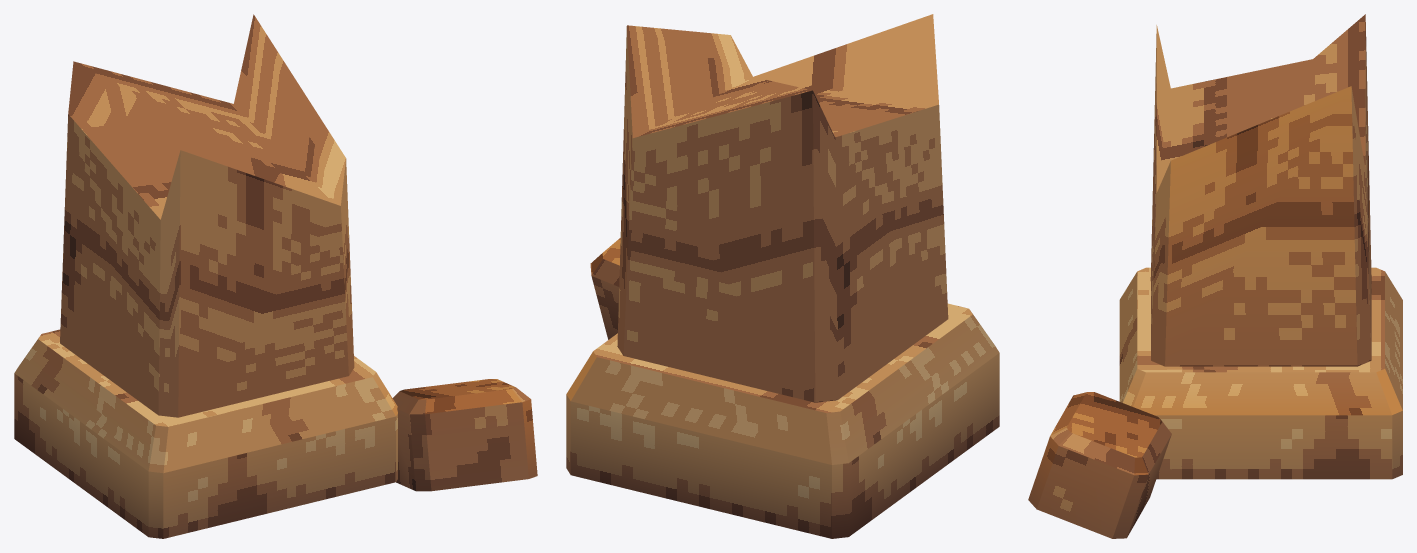
File: ruin.pier__broken.glb
The picture shows the model from 3 angles, left to right: view 1: azimuth 30°, elevation 25°; view 2: azimuth 150°, elevation 25°; view 3: azimuth 270°, elevation 25°; orthographic projection. The views are drawn at different scales.
Visible parts, largest first — view 1: kit_shaft, kit_base, kit_fallen; view 2: kit_shaft, kit_base, kit_fallen; view 3: kit_shaft, kit_base, kit_fallen.
Boxes of the visible parts, left/top/right/bottom form: kit_shaft: left=60, top=14, right=354, bottom=417; kit_base: left=14, top=329, right=397, bottom=538; kit_fallen: left=392, top=379, right=537, bottom=491; kit_shaft: left=617, top=14, right=948, bottom=402; kit_base: left=566, top=303, right=999, bottom=538; kit_fallen: left=590, top=238, right=620, bottom=339; kit_shaft: left=1150, top=14, right=1371, bottom=366; kit_base: left=1119, top=267, right=1402, bottom=479; kit_fallen: left=1028, top=392, right=1171, bottom=538.
Bounding box in the file's own units: 2.3 × 2.43 × 2.12.
3 materials, 3 textured.
